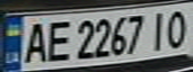2: (72, 16, 96, 61), (93, 15, 115, 60)
6: (109, 14, 130, 57)
7: (124, 11, 148, 55)
A: (18, 18, 51, 64)
E: (42, 17, 72, 63)
I: (145, 8, 172, 52)
O: (160, 6, 193, 49)
